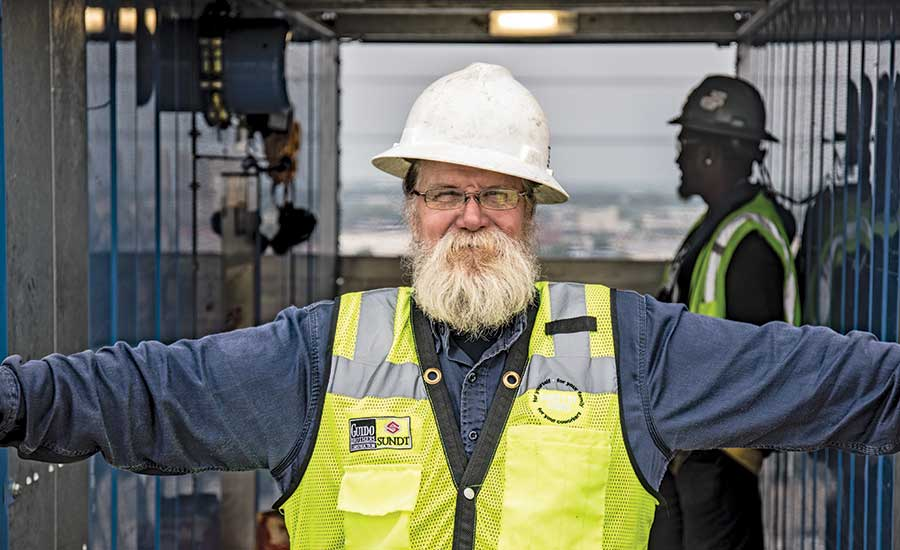hard hat: (370, 62, 574, 197), (666, 75, 777, 143)
high-vis: (269, 282, 656, 550), (657, 193, 803, 322)
